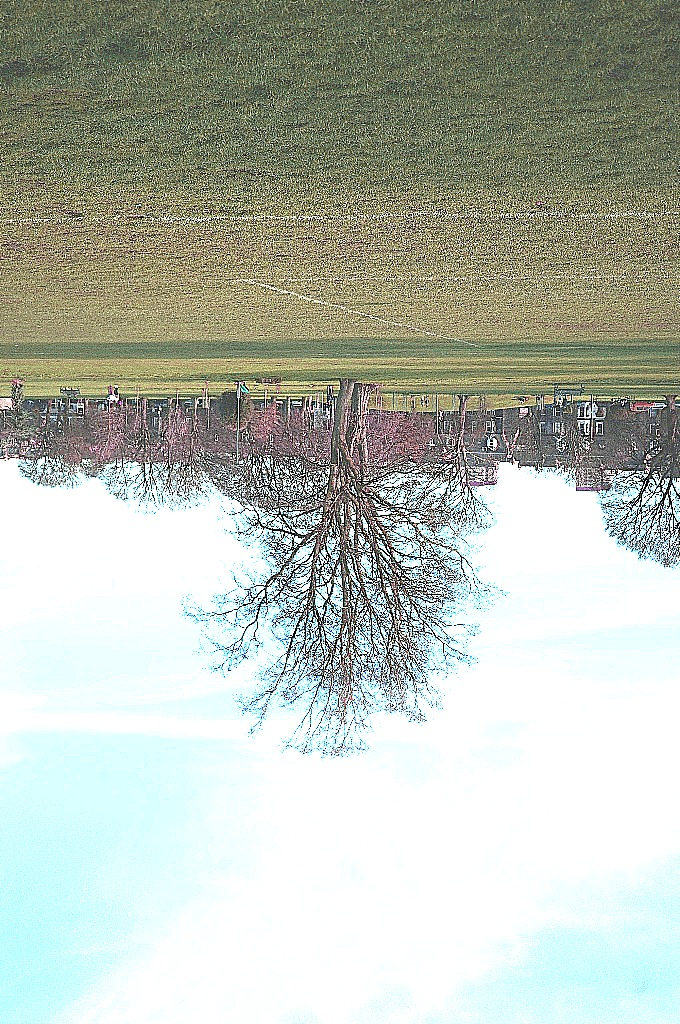Tree: (172, 335, 512, 768), (8, 390, 208, 523), (598, 372, 680, 608)
